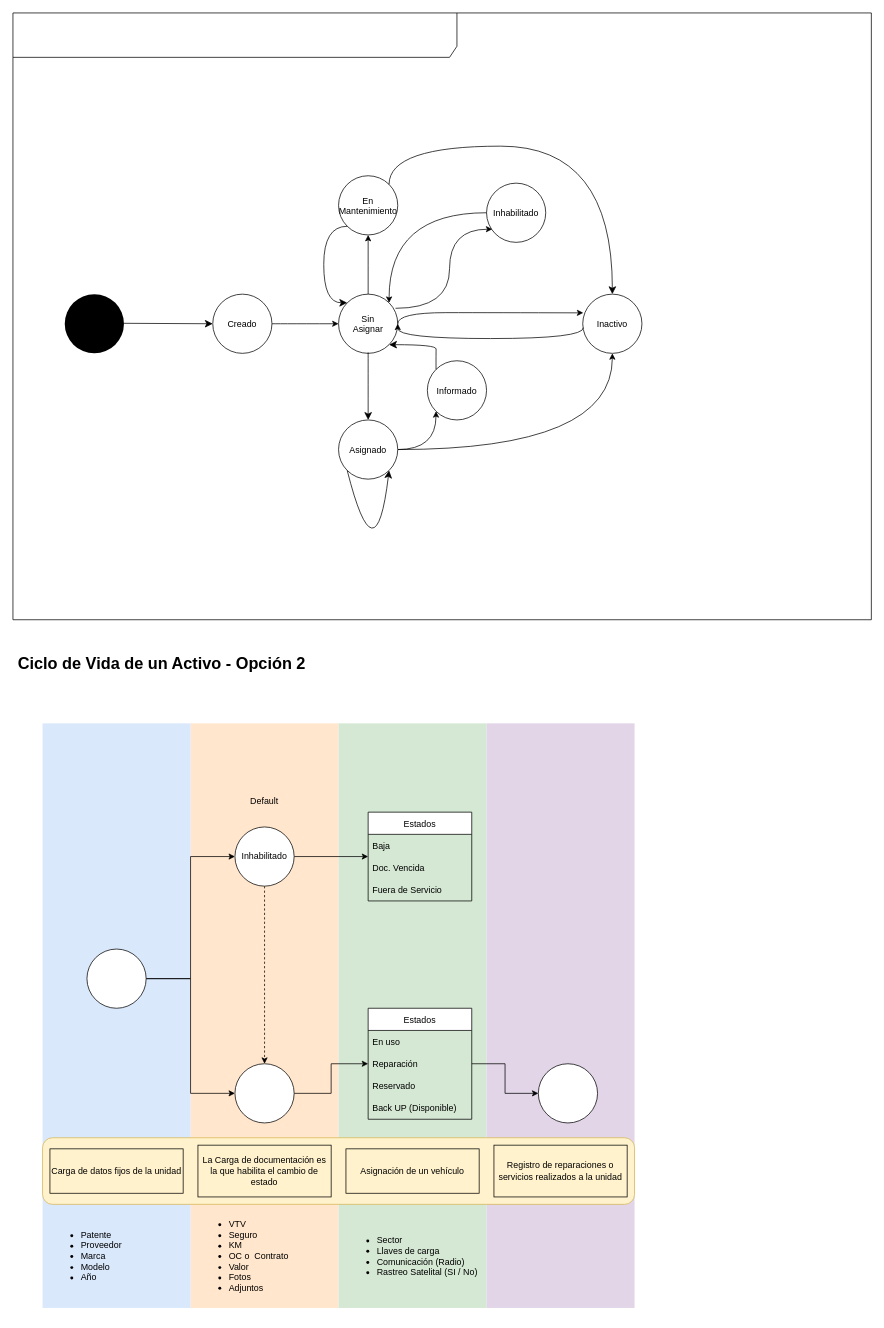
Some shapes in this 884 by 1328 pixel diagram are drawn without their labels. Here are the shapes that lost their labels. From the top down, the centre of each, then its label:
(441,316): Ciclo de Vida de un Activo - Opción 1
(116,978): Crear Vehiculo
(264,1093): Habilitado
(568,1093): Ciclo de Vida
